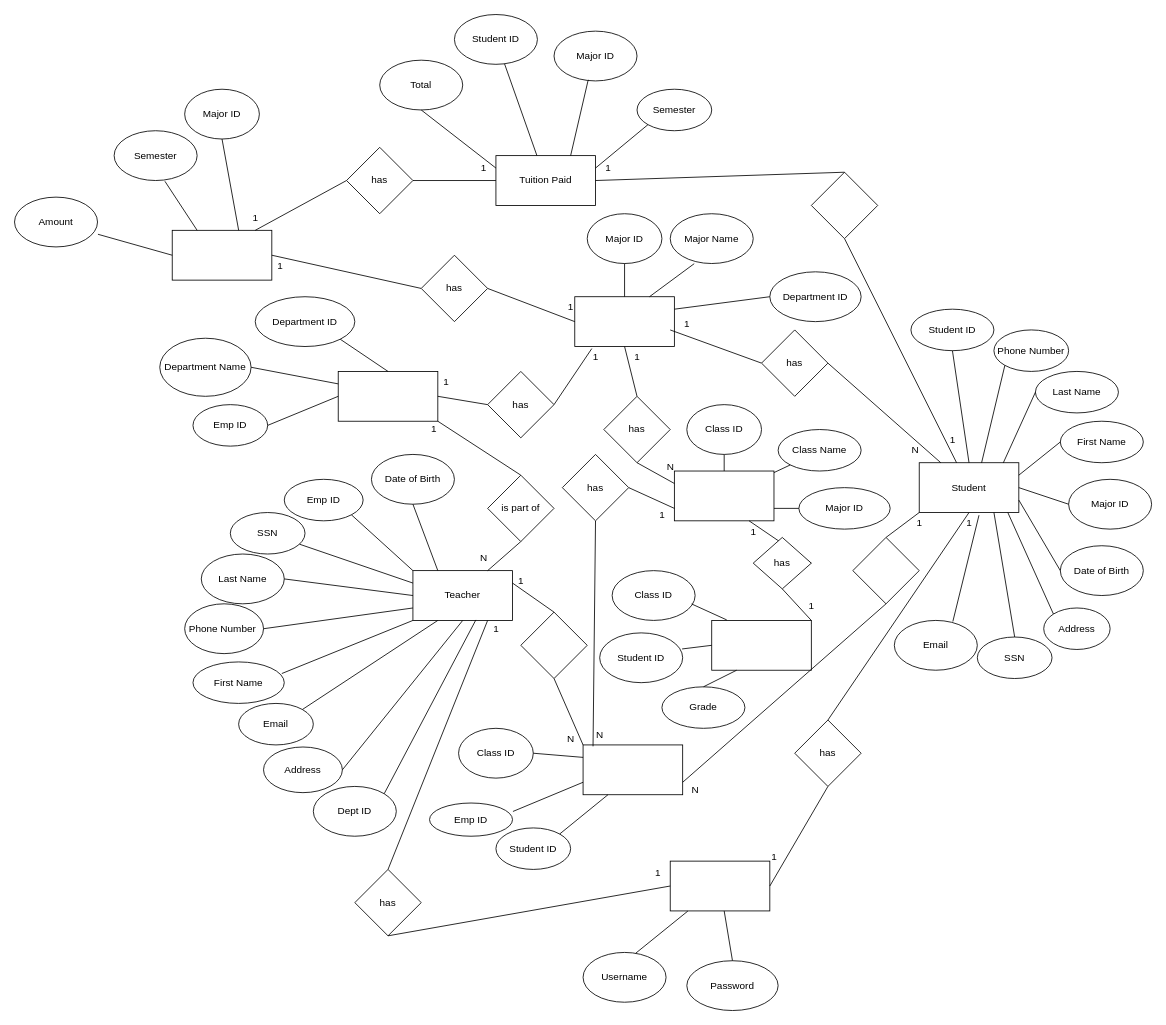
This 1166x1025 diagram has some shape labels left out. Each missing label, with the centre of its shape:
Class: point (724, 495)
Class Enrollment: point (632, 769)
Department: point (387, 396)
enrolls: point (885, 570)
Grades: point (761, 645)
Login: point (719, 885)
Major: point (624, 321)
pays: point (844, 205)
teaches: point (553, 645)
Tuition Breakdown: point (221, 254)
